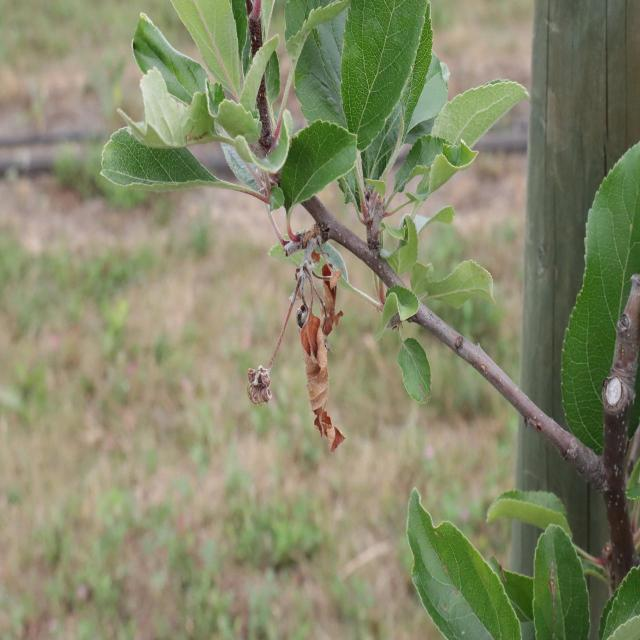-FireBlight-: (287, 246, 360, 456)
